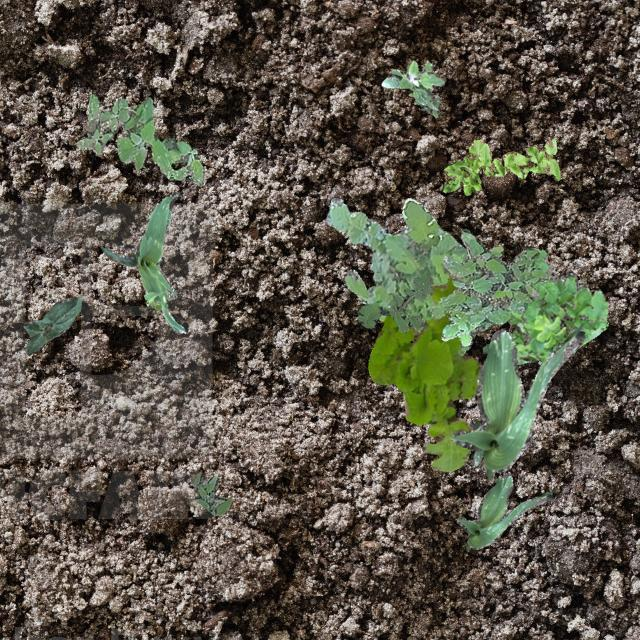crop: (449, 322, 584, 480), (100, 192, 184, 332), (456, 472, 552, 550), (23, 294, 80, 354)
weed: (326, 196, 490, 354), (366, 276, 481, 470), (431, 228, 546, 344), (75, 92, 204, 186), (506, 248, 606, 364), (442, 138, 560, 195), (356, 274, 432, 332), (381, 60, 444, 116), (192, 472, 230, 514), (469, 420, 482, 464)
